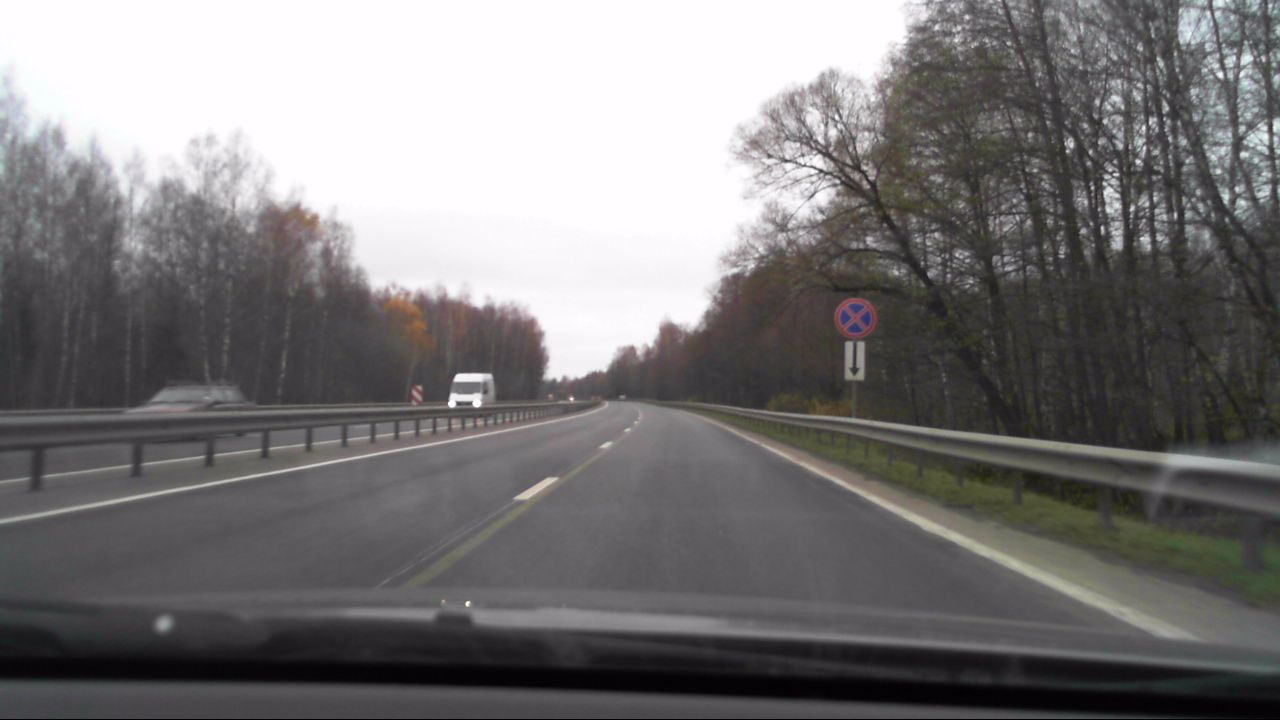No Parking: (833, 296, 877, 340)
